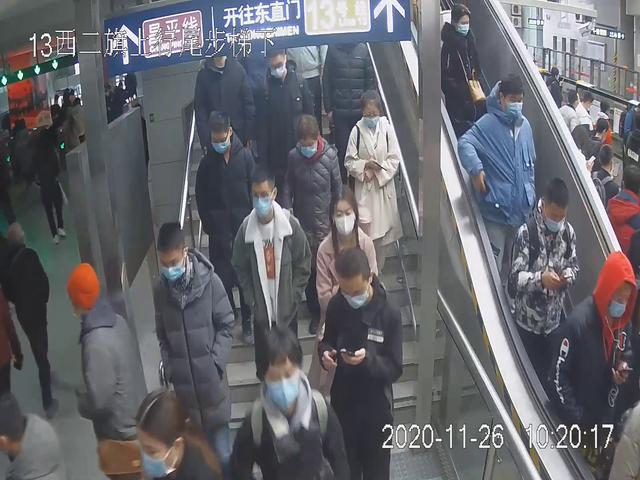person: (543, 244, 640, 480), (148, 219, 234, 477), (230, 167, 313, 404), (454, 74, 537, 302), (68, 257, 149, 480), (194, 106, 263, 355), (505, 178, 583, 397), (275, 115, 349, 345), (343, 86, 402, 302), (441, 1, 492, 147)
